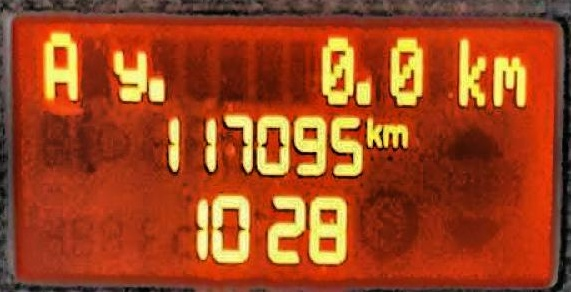-: (147, 73, 168, 105), (354, 76, 373, 108)
0: (209, 191, 250, 264), (388, 34, 424, 106), (319, 31, 354, 105), (254, 112, 288, 174)
1: (191, 192, 209, 270), (161, 113, 180, 177), (203, 113, 217, 176)
2: (264, 188, 305, 264)
5: (329, 112, 363, 177)
7: (222, 109, 253, 173)
8: (308, 193, 345, 265)
9: (291, 113, 326, 176)
X: (40, 29, 79, 103), (454, 32, 489, 110), (490, 51, 526, 109), (111, 44, 146, 103), (381, 119, 409, 149), (364, 112, 381, 150)
